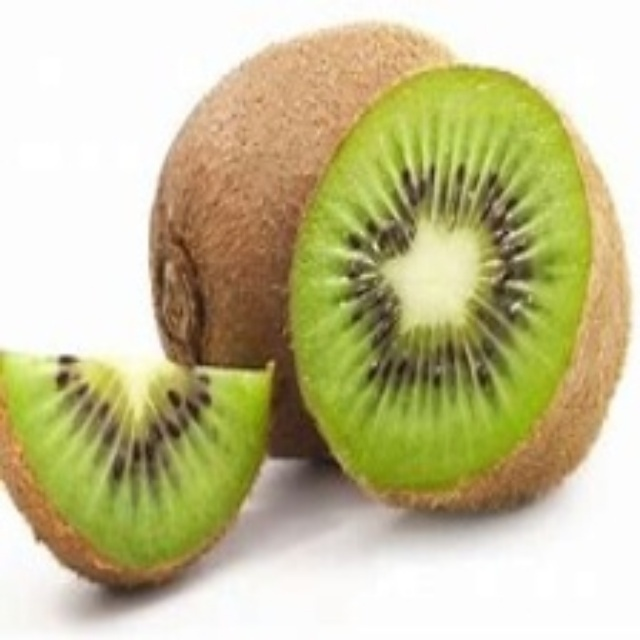kiwi: (301, 67, 628, 509), (148, 22, 457, 454), (3, 322, 269, 604)
